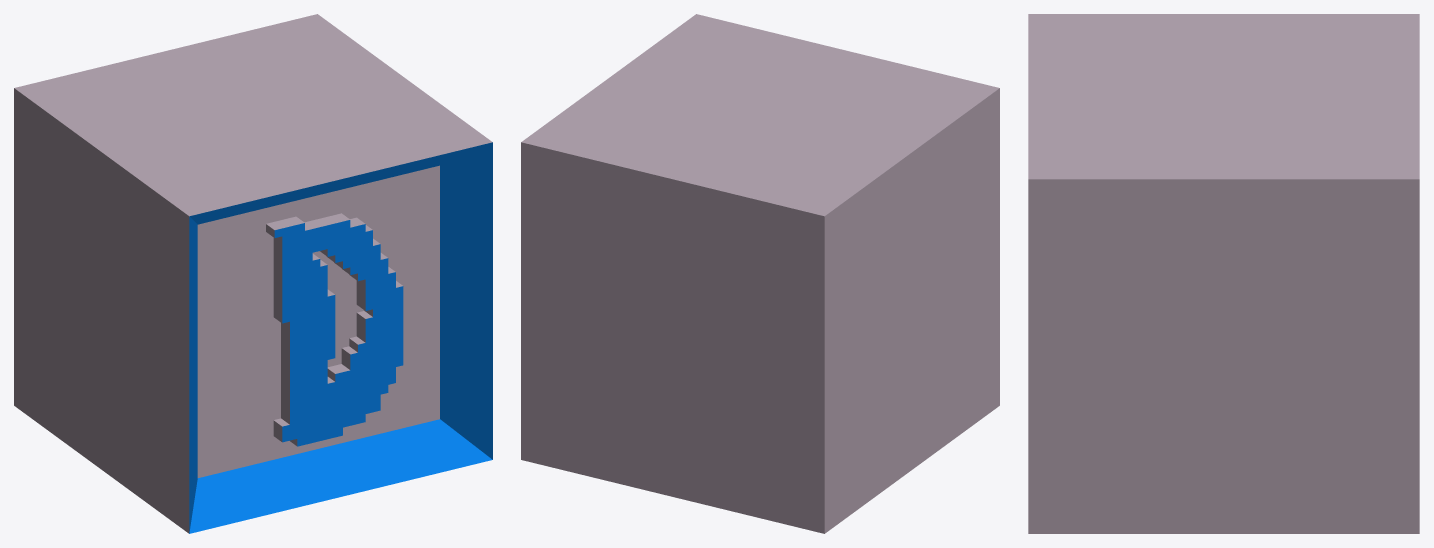
The model's file is BlockD.fbx.
3 views of the same model, side by side, from view 1: azimuth 30°, elevation 25°; view 2: azimuth 150°, elevation 25°; view 3: azimuth 270°, elevation 25° (orthographic). The views are drawn at different scales.
Visible parts, largest first — view 1: Cube; view 2: Cube; view 3: Cube.
Boxes of the visible parts, x1,y1,x2,y2 form: Cube: [14, 14, 492, 533]; Cube: [521, 14, 999, 533]; Cube: [1028, 14, 1419, 533].
Bounding box in the file's own units: 2000 × 2000 × 2000.
